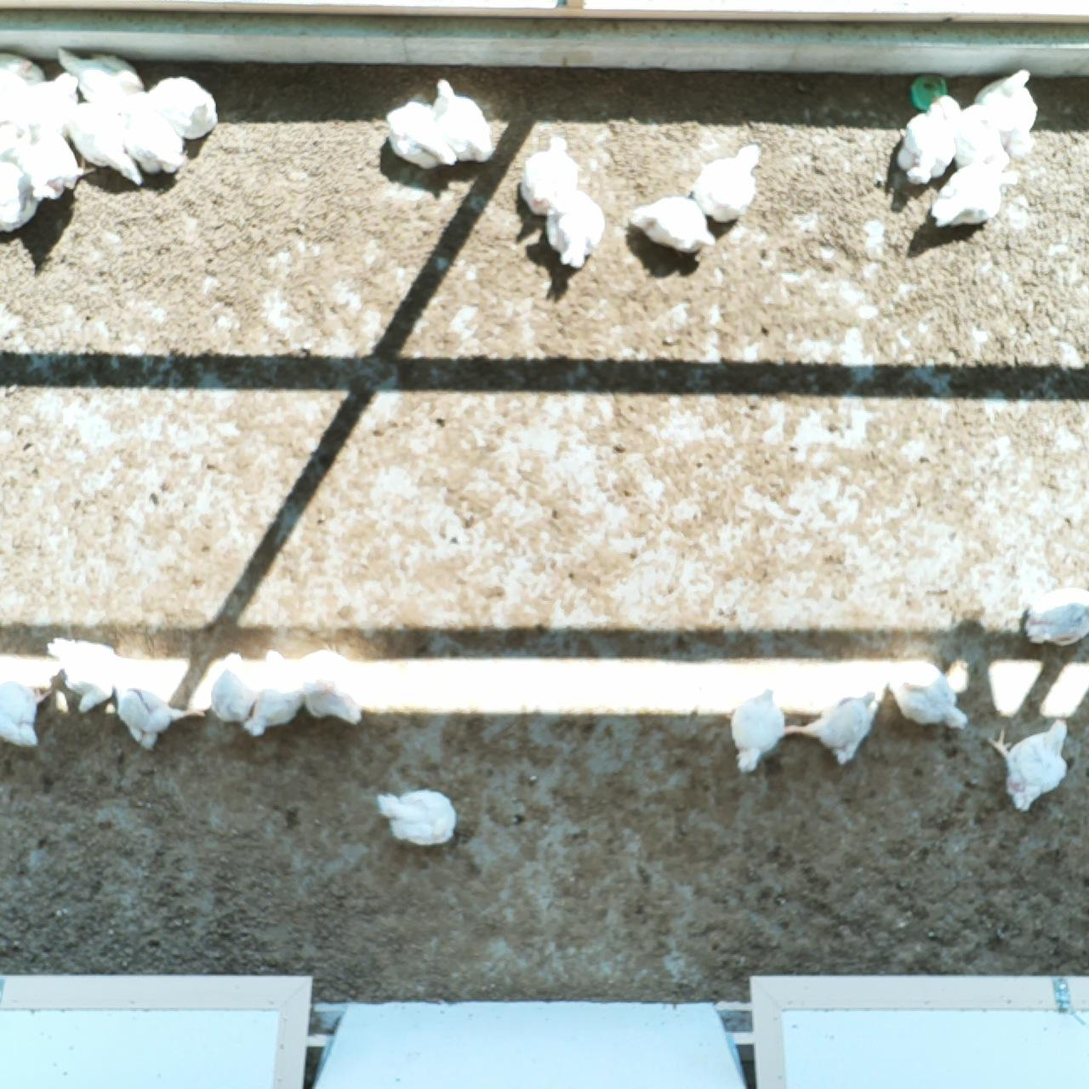chicken: (985, 712, 1076, 817), (61, 97, 150, 188), (784, 686, 883, 767), (6, 119, 98, 204), (116, 670, 207, 754), (923, 157, 1022, 231), (883, 656, 971, 737), (373, 94, 461, 172), (972, 67, 1044, 161), (295, 640, 368, 730), (370, 778, 458, 852), (719, 684, 788, 776), (689, 141, 764, 224), (627, 191, 717, 260), (45, 633, 119, 715), (241, 644, 303, 741), (893, 96, 959, 187), (430, 75, 496, 165), (121, 89, 188, 176), (542, 186, 609, 273), (516, 131, 581, 220), (146, 70, 222, 146), (52, 43, 147, 101), (939, 93, 1005, 171), (1017, 583, 1089, 649), (3, 71, 80, 127), (0, 673, 54, 752), (209, 649, 258, 726), (0, 157, 44, 236), (0, 48, 46, 94)
